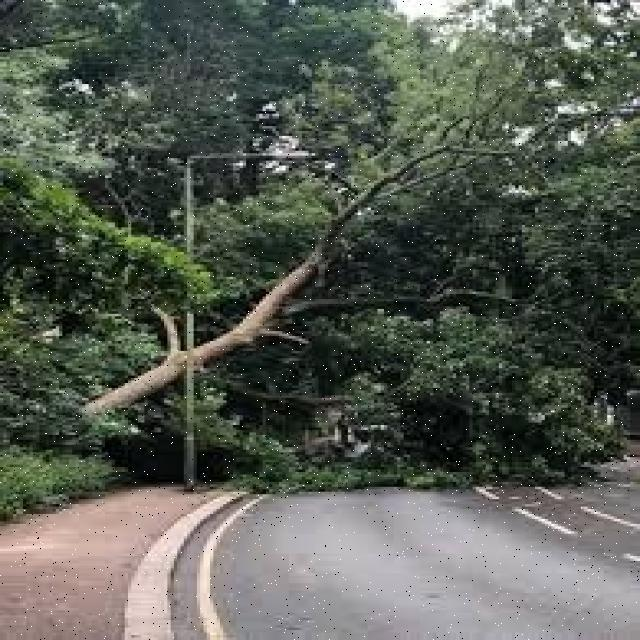fallen_object: (88, 166, 486, 452)
